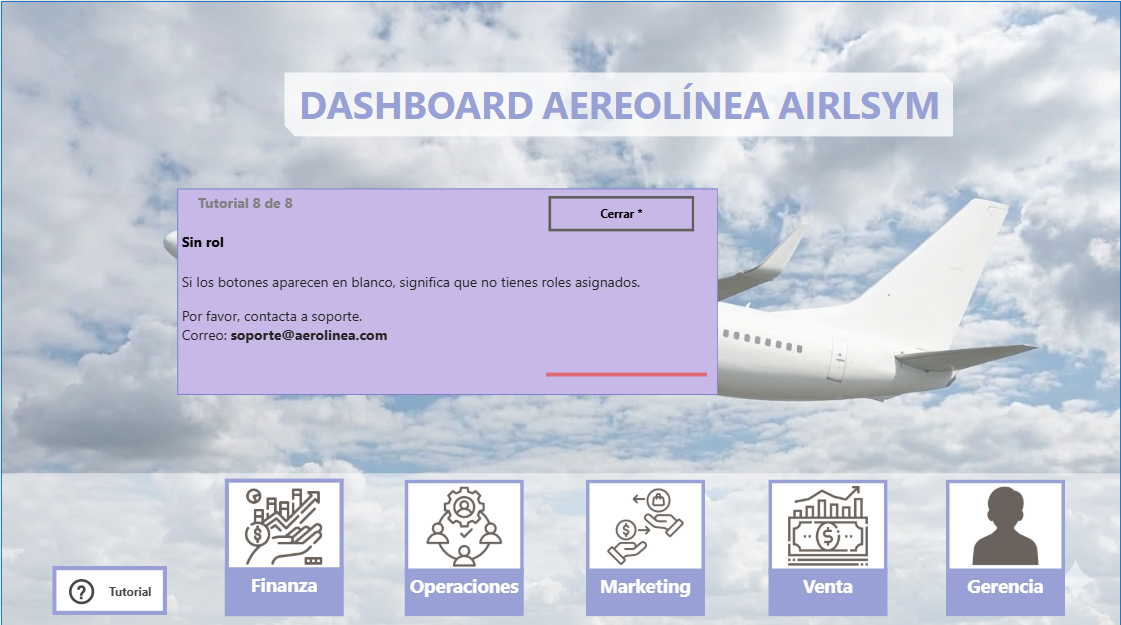

Layout of this report page (visuals, bound fields, positions):
{"tool":"powerbi","page":{"name":"Inicio","canvas":[1280,714],"ordinal":0},"visuals":[{"type":"textbox","box":[58.6,645.7,131.4,55.7],"z":0},{"type":"actionButton","box":[72.9,655.7,102.9,38.6],"z":18000},{"type":"textbox","box":[255.7,545.7,135.7,107.1],"z":19000},{"type":"textbox","box":[255.7,647.1,135.7,55.7],"z":20000},{"type":"textbox","box":[461.4,547.1,135.7,107.1],"z":22000},{"type":"textbox","box":[668.6,547.1,135.7,107.1],"z":23000},{"type":"textbox","box":[877.1,547.1,135.7,107.1],"z":24000},{"type":"textbox","box":[1080,547.1,135.7,107.1],"z":25000},{"type":"textbox","box":[877.1,648.6,135.7,54.3],"z":26000},{"type":"textbox","box":[461.4,648.6,135.7,54.3],"z":27000},{"type":"textbox","box":[668.6,648.6,135.7,54.3],"z":28000},{"type":"textbox","box":[1080,648.6,135.7,54.3],"z":29000},{"type":"image","box":[255.7,554.3,135.7,92.9],"z":33500},{"type":"image","box":[1080,554.3,135.7,91.4],"z":34000},{"type":"image","box":[461.4,554.3,135.7,92.9],"z":35000},{"type":"image","box":[668.6,554.3,135.7,92.9],"z":36000},{"type":"image","box":[877.1,554.3,135.7,91],"z":37000}]}

Visuals, with their boxes in screenshot pixels (x1, y1, x2, y2), scaled from the page's 1280x714 canvas onto the 1121x625 screenshot:
textbox: l=51, t=565, r=166, b=614
actionButton: l=64, t=574, r=154, b=608
textbox: l=224, t=478, r=343, b=571
textbox: l=224, t=566, r=343, b=615
textbox: l=404, t=479, r=523, b=573
textbox: l=586, t=479, r=704, b=573
textbox: l=768, t=479, r=887, b=573
textbox: l=946, t=479, r=1065, b=573
textbox: l=768, t=568, r=887, b=615
textbox: l=404, t=568, r=523, b=615
textbox: l=586, t=568, r=704, b=615
textbox: l=946, t=568, r=1065, b=615
image: l=224, t=485, r=343, b=567
image: l=946, t=485, r=1065, b=565
image: l=404, t=485, r=523, b=567
image: l=586, t=485, r=704, b=567
image: l=768, t=485, r=887, b=565
